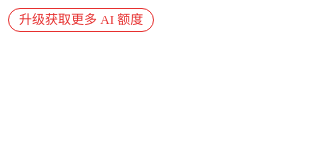
Test: HuaqiuTurnErrorSubscribeAction › shows the host-dialog fallback copy when the host has no dialog service
Click the button "升级获取更多 AI 额度". click: [81, 20]
box: [8,8,154,32]
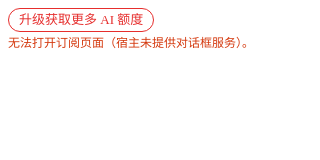
Result: the text "宿主未提供对话框服务" is shown at [8,36,254,50]
